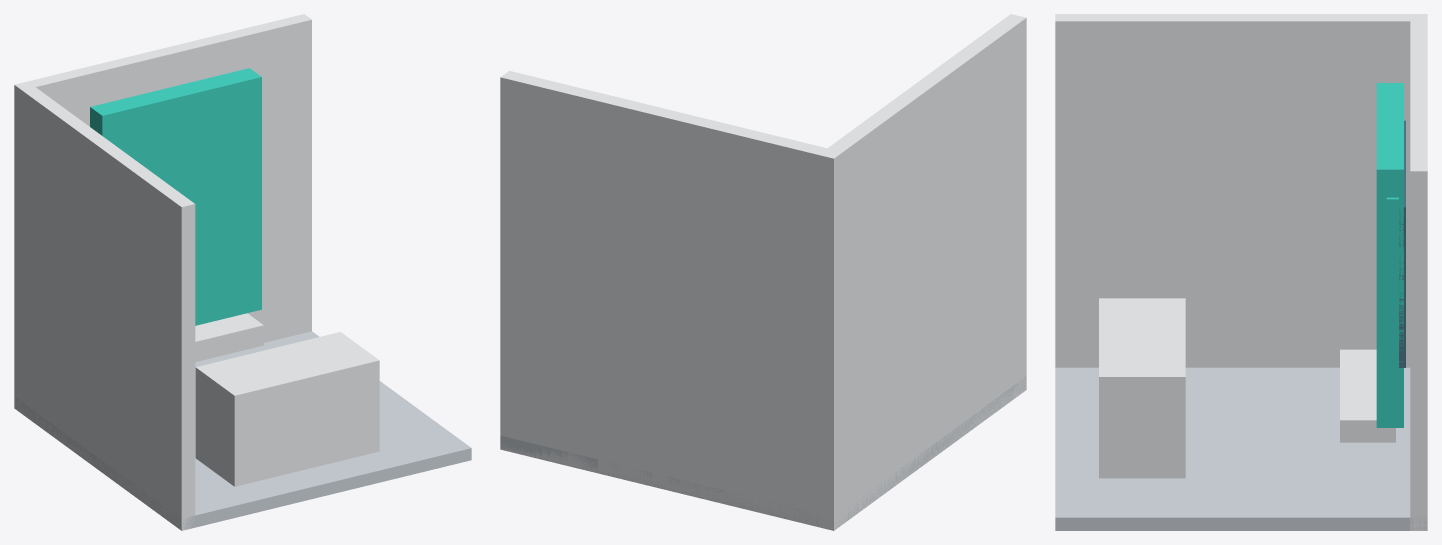
3 renders of one model, left to right at view 1: azimuth 30°, elevation 25°; view 2: azimuth 150°, elevation 25°; view 3: azimuth 270°, elevation 25°, orthographic. The views are drawn at different scales.
Visible parts, largest first — view 1: Exhibition Booth Concept; view 2: Exhibition Booth Concept; view 3: Exhibition Booth Concept.
Boxes of the visible parts, left/top/right/bottom form: Exhibition Booth Concept: left=14, top=14, right=471, bottom=530; Exhibition Booth Concept: left=500, top=14, right=1026, bottom=530; Exhibition Booth Concept: left=1055, top=14, right=1427, bottom=530.
Bounding box in the file's own units: 3 × 3.2 × 3.
